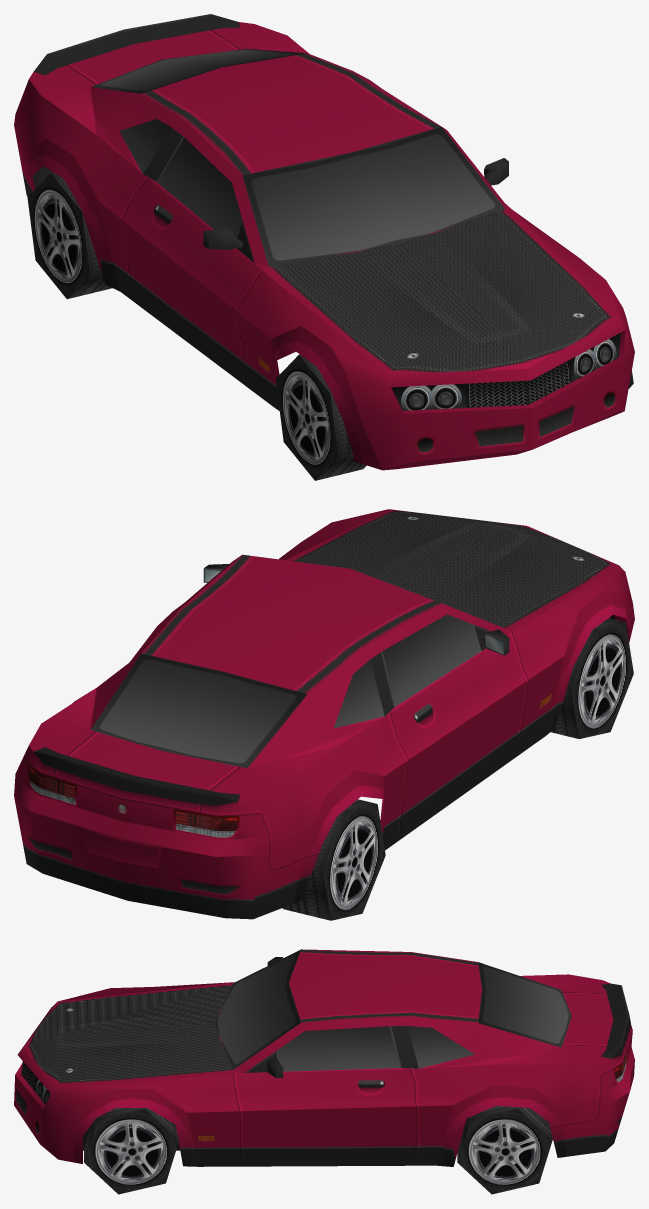
The model's file is Modern_Muscle_Car_LOD2.fbx.
3 views of the same model, one above another, from view 1: azimuth 30°, elevation 25°; view 2: azimuth 150°, elevation 25°; view 3: azimuth 270°, elevation 25° (orthographic). The views are drawn at different scales.
Parts seen in each view (by area): view 1: Chassis, RF_Wheel, RR_Wheel; view 2: Chassis, RR_Wheel, RF_Wheel; view 3: Chassis, LR_Wheel, LF_Wheel.
Boxes of the visible parts, x1,y1,x2,y2 form: Chassis: (14, 14, 634, 470); RF_Wheel: (275, 354, 366, 480); RR_Wheel: (27, 172, 112, 299); Chassis: (14, 509, 634, 919); RR_Wheel: (282, 799, 385, 920); RF_Wheel: (551, 618, 633, 738); Chassis: (14, 949, 634, 1166); LR_Wheel: (457, 1105, 552, 1194); LF_Wheel: (84, 1108, 179, 1194).
Bounding box in the file's own units: 2.29 × 1.55 × 5.43.
Materials: 2 (2 with a texture image).
